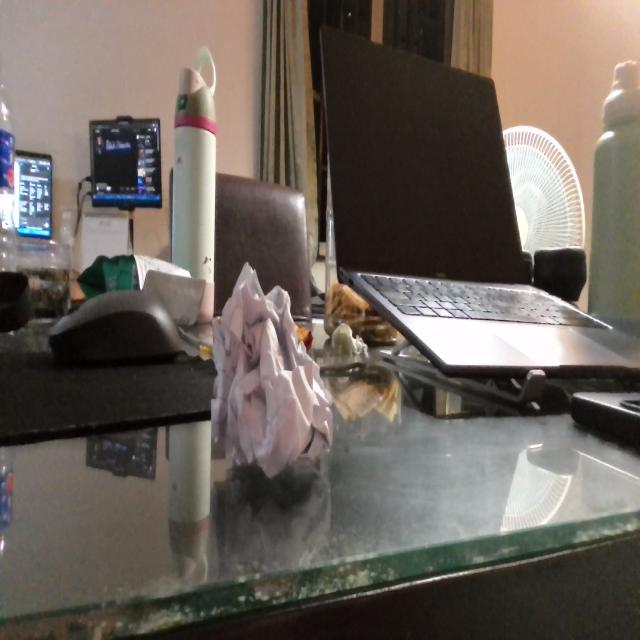crumpled_paper: (211, 254, 335, 485)
